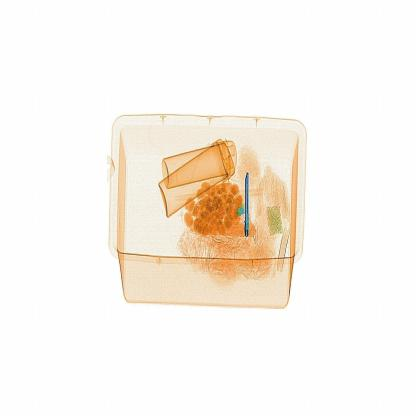pliers: (230, 165, 259, 241)
